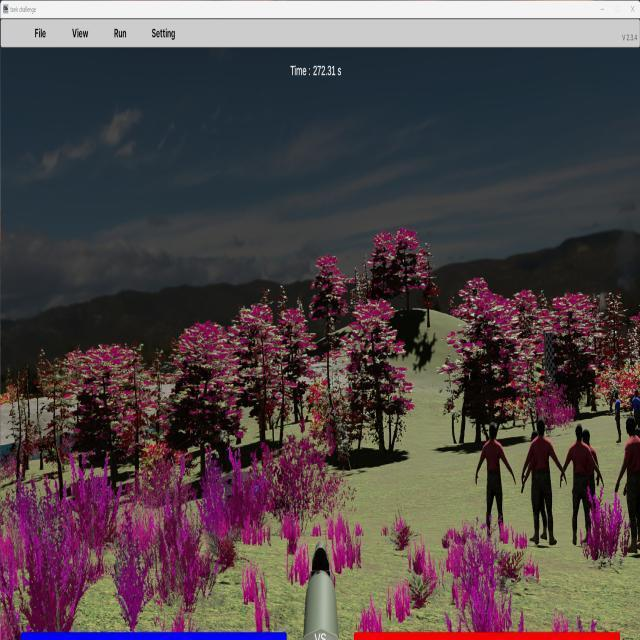Human: (521, 418, 566, 544), (560, 423, 604, 546), (475, 421, 516, 543), (614, 417, 640, 555)
